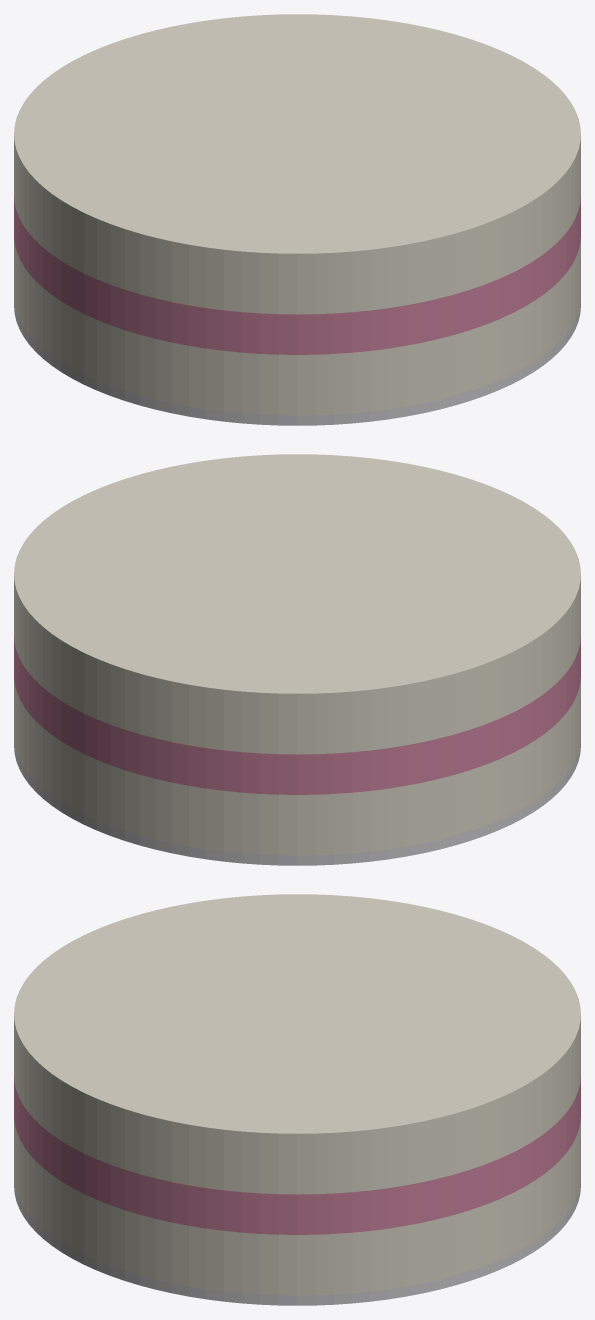
The model's file is cake_10in_layers2.glb.
The picture shows the model from 3 angles, top to bottom: view 1: azimuth 30°, elevation 25°; view 2: azimuth 150°, elevation 25°; view 3: azimuth 270°, elevation 25°; orthographic projection.
Visible parts, largest first — view 1: geometry_2, geometry_0, geometry_1, geometry_3; view 2: geometry_2, geometry_0, geometry_1, geometry_3; view 3: geometry_2, geometry_0, geometry_1, geometry_3.
Part boxes in pixels (x1,y1,x2,y2): geometry_2: (14,14,580,314); geometry_0: (14,237,580,415); geometry_1: (14,197,580,354); geometry_3: (14,298,580,425); geometry_2: (14,454,580,754); geometry_0: (14,677,580,855); geometry_1: (14,637,580,794); geometry_3: (14,738,580,865); geometry_2: (14,894,580,1194); geometry_0: (14,1117,580,1295); geometry_1: (14,1077,580,1234); geometry_3: (14,1178,580,1305).
Bounding box in the file's own units: 0.254 × 0.085 × 0.254.
